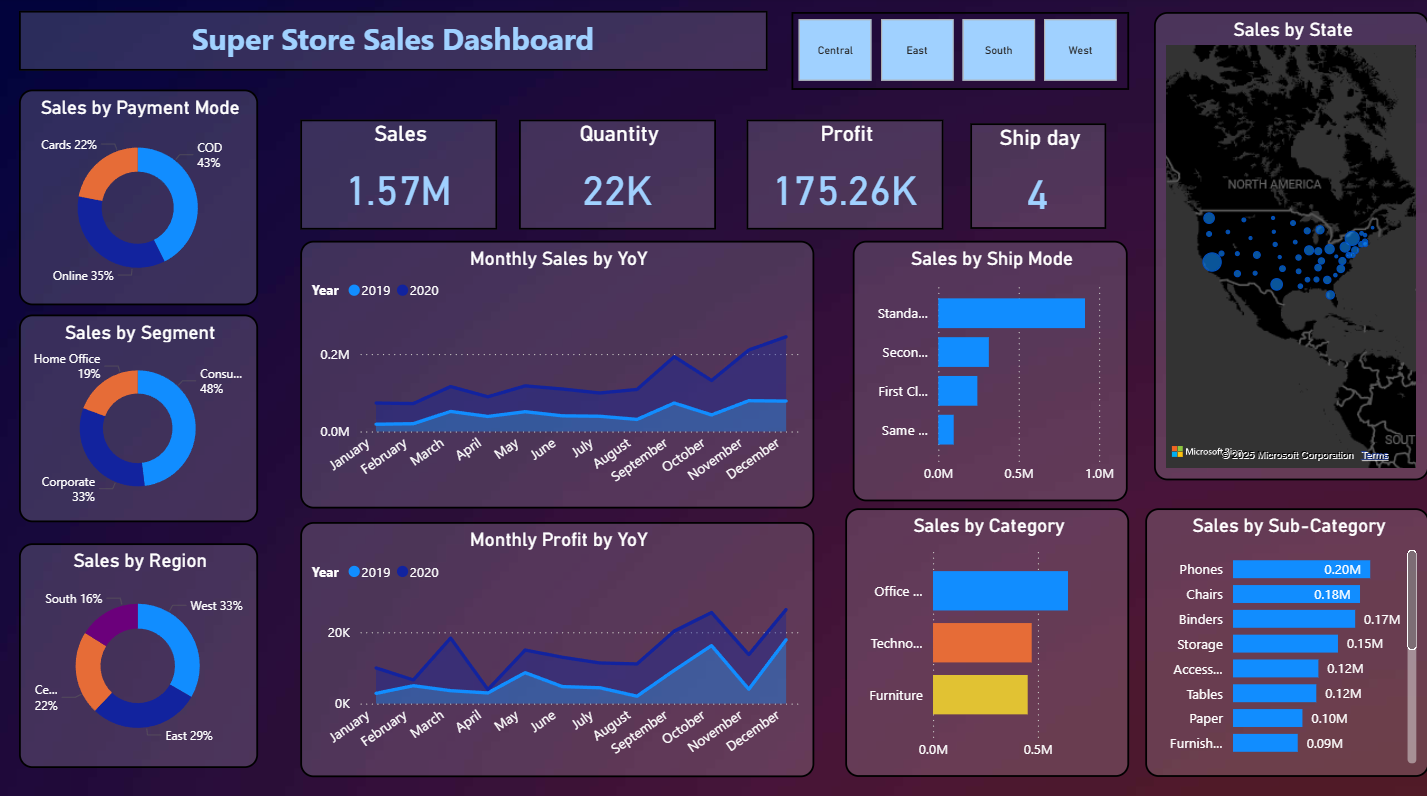

Layout of this report page (visuals, bound fields, positions):
{"tool":"powerbi","page":{"name":"Page 1","canvas":[1280,720],"ordinal":0},"visuals":[{"type":"clusteredBarChart","title":"Sales by Ship Mode","fields":{"Category":["SuperStore_Sales_Dataset.Ship Mode"],"Y":["Sum(SuperStore_Sales_Dataset.Sales)"]},"box":[762.9,217.3,245.7,232.7],"z":0},{"type":"clusteredBarChart","title":" Sales by Category","fields":{"Category":["SuperStore_Sales_Dataset.Category"],"Y":["Sum(SuperStore_Sales_Dataset.Sales)"]},"box":[756.2,457.2,253.9,240.2],"z":1000},{"type":"textbox","box":[17.7,12.3,668.8,53.2],"z":2000},{"type":"stackedAreaChart","title":"Monthly Sales by YoY","fields":{"Y":["Sum(SuperStore_Sales_Dataset.Sales)"],"Category":["SuperStore_Sales_Dataset.Order Date.Variation.Date Hierarchy.Month","SuperStore_Sales_Dataset.Order Date.Variation.Date Hierarchy.Day"],"Series":["SuperStore_Sales_Dataset.Order Date.Variation.Date Hierarchy.Year"]},"box":[269.1,217.7,458.9,239],"z":3000},{"type":"stackedAreaChart","title":"Monthly Profit by YoY","fields":{"Category":["SuperStore_Sales_Dataset.Order Date.Variation.Date Hierarchy.Month","SuperStore_Sales_Dataset.Order Date.Variation.Date Hierarchy.Day"],"Series":["SuperStore_Sales_Dataset.Order Date.Variation.Date Hierarchy.Year"],"Y":["Sum(SuperStore_Sales_Dataset.Profit)"]},"box":[269.1,469,458.9,227.8],"z":4000},{"type":"donutChart","title":"Sales by Payment Mode","fields":{"Y":["Sum(SuperStore_Sales_Dataset.Sales)"],"Category":["SuperStore_Sales_Dataset.Payment Mode"]},"box":[17.9,82.6,213.3,193.2],"z":5000},{"type":"donutChart","title":" Sales by Segment","fields":{"Y":["Sum(SuperStore_Sales_Dataset.Sales)"],"Category":["SuperStore_Sales_Dataset.Segment"]},"box":[17.9,283.6,213.3,185.4],"z":6000},{"type":"map","title":"Sales by State","fields":{"Category":["SuperStore_Sales_Dataset.State"],"Size":["Sum(SuperStore_Sales_Dataset.Sales)"]},"box":[1031.8,13.4,245.7,418.7],"z":7000},{"type":"advancedSlicerVisual","fields":{"Values":["SuperStore_Sales_Dataset.Region"]},"box":[707.9,13.4,301.5,69.2],"z":8000},{"type":"cardVisual","title":"Sales","fields":{"Data":["Sum(SuperStore_Sales_Dataset.Sales)"]},"box":[268.9,109.2,176.1,98.3],"z":9000},{"type":"cardVisual","title":"Quantity","fields":{"Data":["Sum(SuperStore_Sales_Dataset.Quantity)"]},"box":[464.1,109.2,176.1,98.3],"z":10000},{"type":"cardVisual","title":"Profit","fields":{"Data":["Sum(SuperStore_Sales_Dataset.Profit)"]},"box":[667.4,109.2,176.1,98.3],"z":11000},{"type":"cardVisual","title":"Ship day","fields":{"Data":["Avg(SuperStore_Sales_Dataset.AvgDeliveryDay)"]},"box":[868.1,113.3,121.5,94.2],"z":12000},{"type":"donutChart","title":"Sales by Region","fields":{"Y":["Sum(SuperStore_Sales_Dataset.Sales)"],"Category":["SuperStore_Sales_Dataset.Region"]},"box":[17.9,488,213.3,201],"z":13000},{"type":"clusteredBarChart","title":" Sales by Sub-Category","fields":{"Category":["SuperStore_Sales_Dataset.Sub-Category"],"Y":["Sum(SuperStore_Sales_Dataset.Sales)"]},"box":[1024,457.1,253.9,239.7],"z":14000}]}

Visuals, with their boxes in screenshot pixels (x1, y1, x2, y2), scaled from the page's 1280x720 canvas onto the 1427x796 screenshot:
"Sales by Ship Mode" clusteredBarChart: (851,240,1124,498)
" Sales by Category" clusteredBarChart: (843,505,1126,771)
textbox: (20,14,765,72)
"Monthly Sales by YoY" stackedAreaChart: (300,241,812,505)
"Monthly Profit by YoY" stackedAreaChart: (300,519,812,770)
"Sales by Payment Mode" donutChart: (20,91,258,305)
" Sales by Segment" donutChart: (20,314,258,519)
"Sales by State" map: (1150,15,1424,478)
advancedSlicerVisual - SuperStore_Sales_Dataset.Region: (789,15,1125,91)
"Sales" cardVisual: (300,121,496,229)
"Quantity" cardVisual: (517,121,714,229)
"Profit" cardVisual: (744,121,940,229)
"Ship day" cardVisual: (968,125,1103,229)
"Sales by Region" donutChart: (20,540,258,762)
" Sales by Sub-Category" clusteredBarChart: (1142,505,1425,770)
